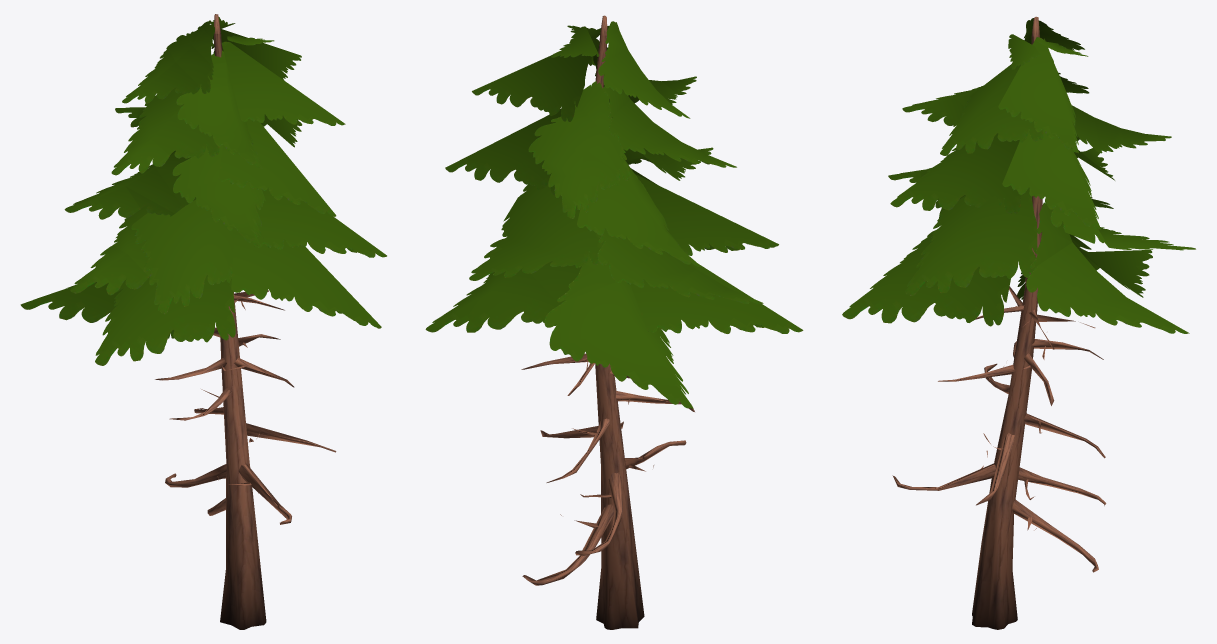
The model's file is tree-life-3-mature.glb.
3 renders of one model, left to right at view 1: azimuth 30°, elevation 25°; view 2: azimuth 150°, elevation 25°; view 3: azimuth 270°, elevation 25°, orthographic. The views are drawn at different scales.
Parts seen in each view (by area): view 1: Pine_3; view 2: Pine_3; view 3: Pine_3.
Boxes of the visible parts, x1,y1,x2,y2 form: Pine_3: [20, 14, 386, 629]; Pine_3: [425, 15, 803, 629]; Pine_3: [842, 16, 1195, 629].
Bounding box in the file's own units: 2.96 × 5.92 × 3.27.
2 materials, 2 textured.
